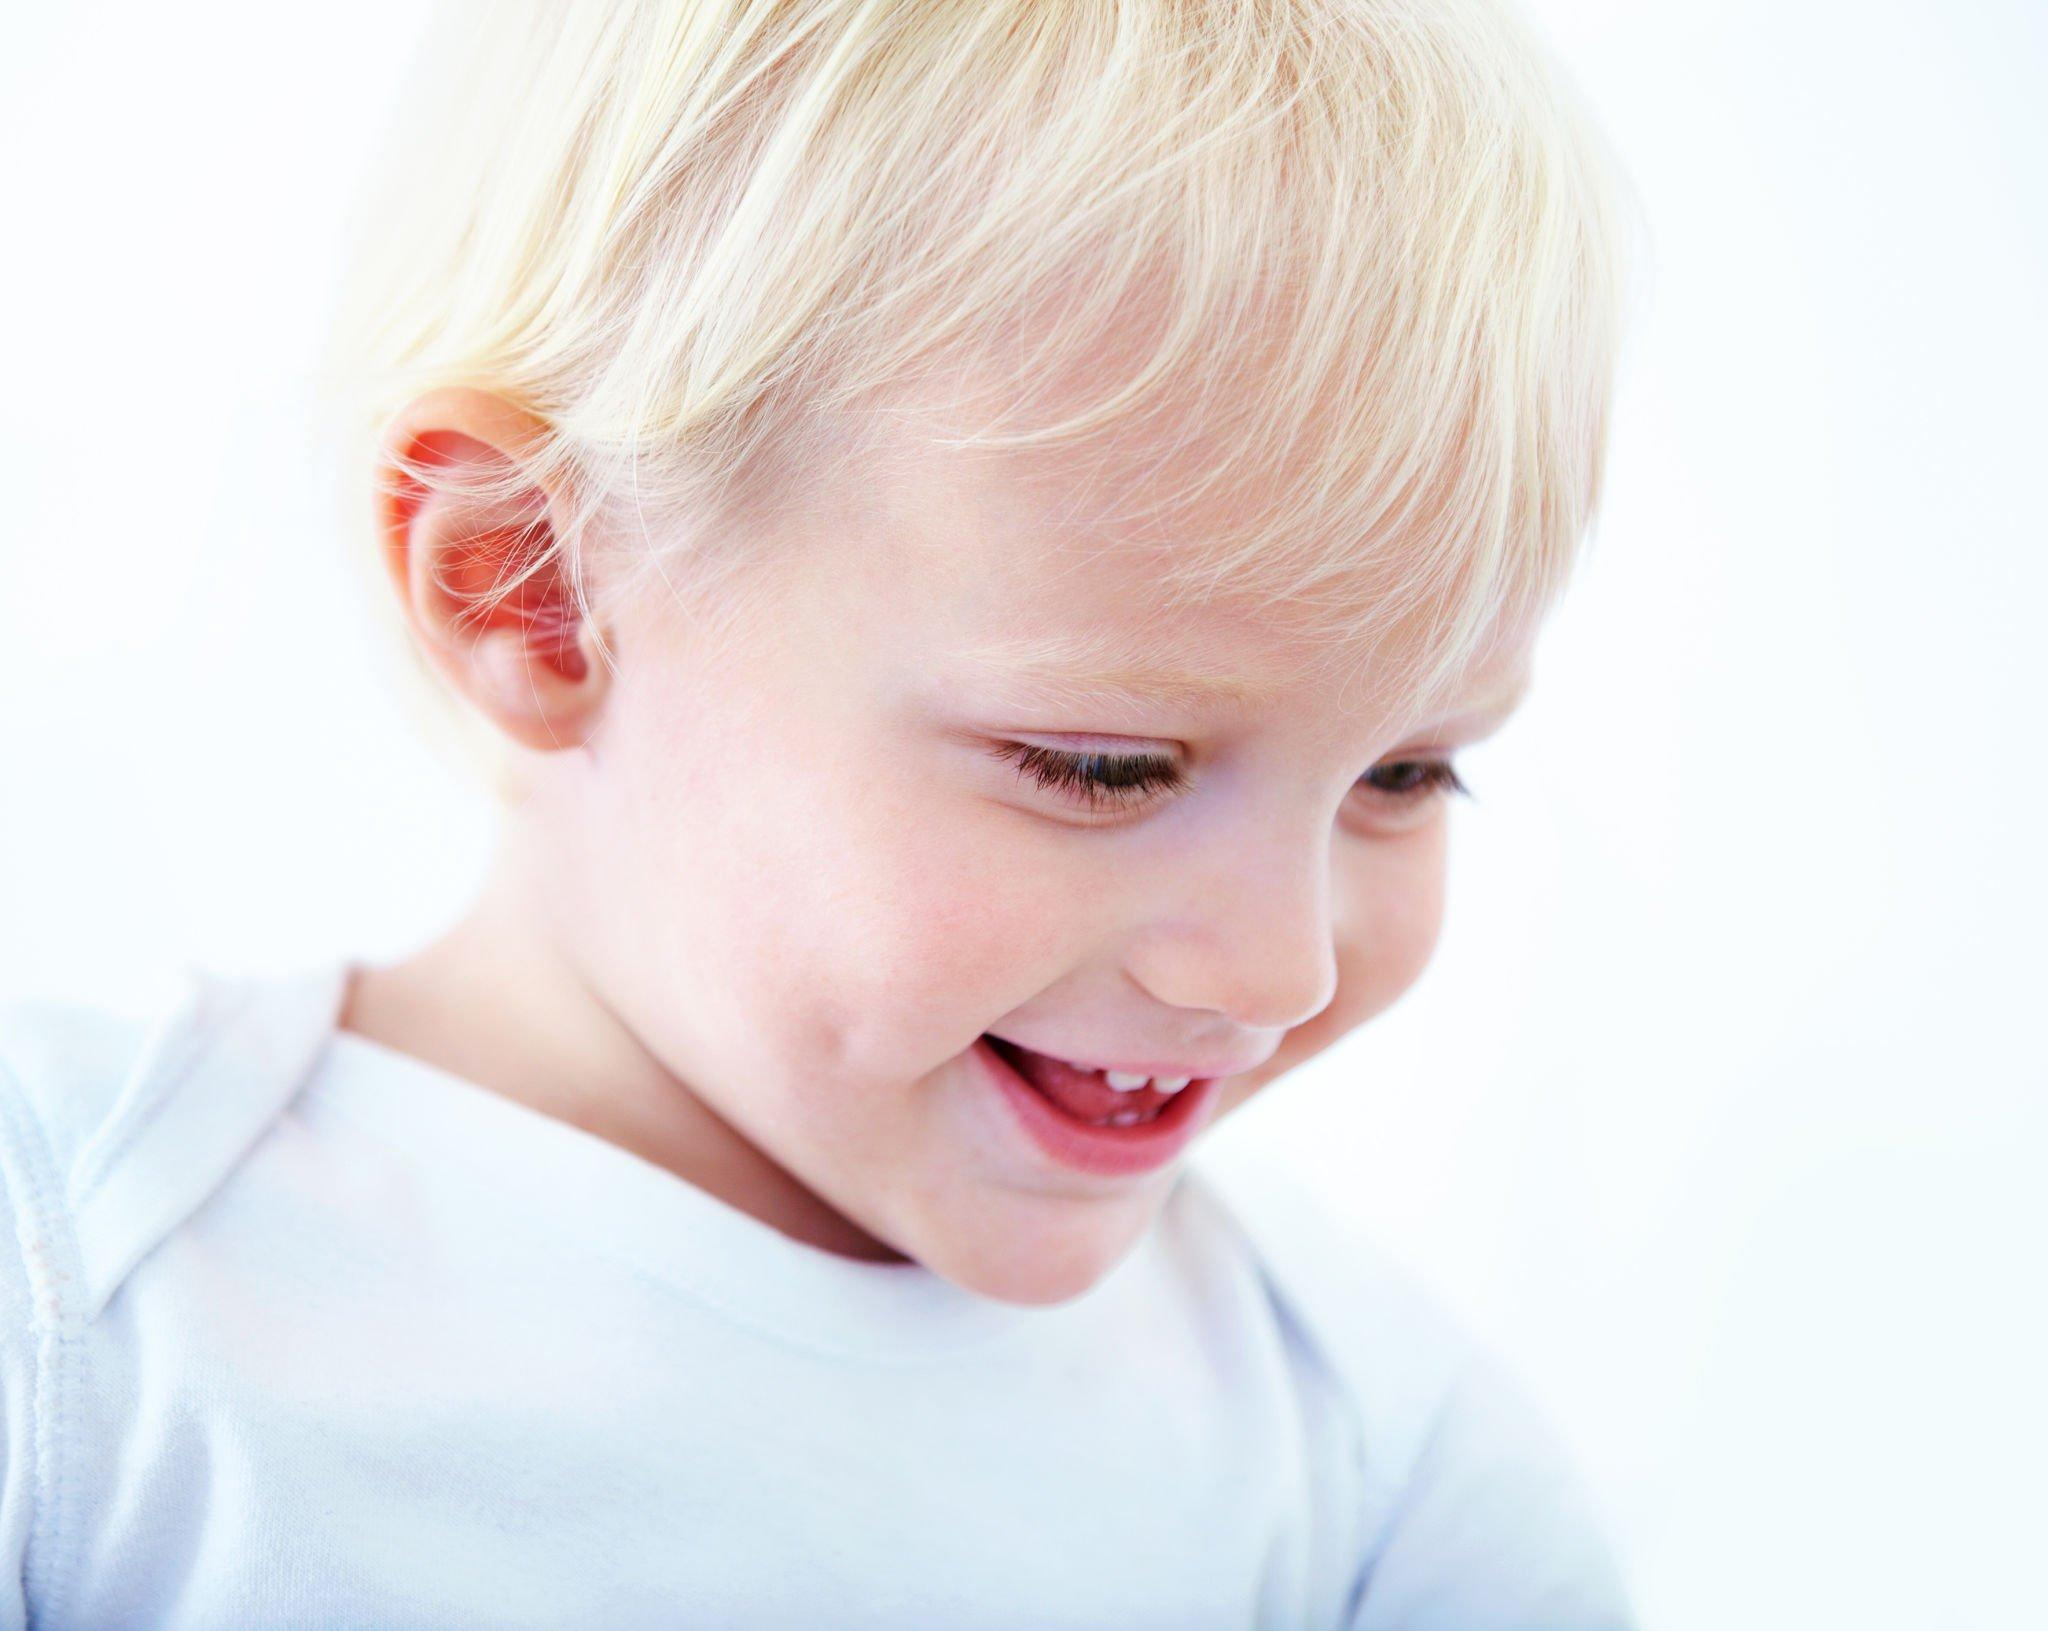Healthy: (537, 186, 1572, 1345)
